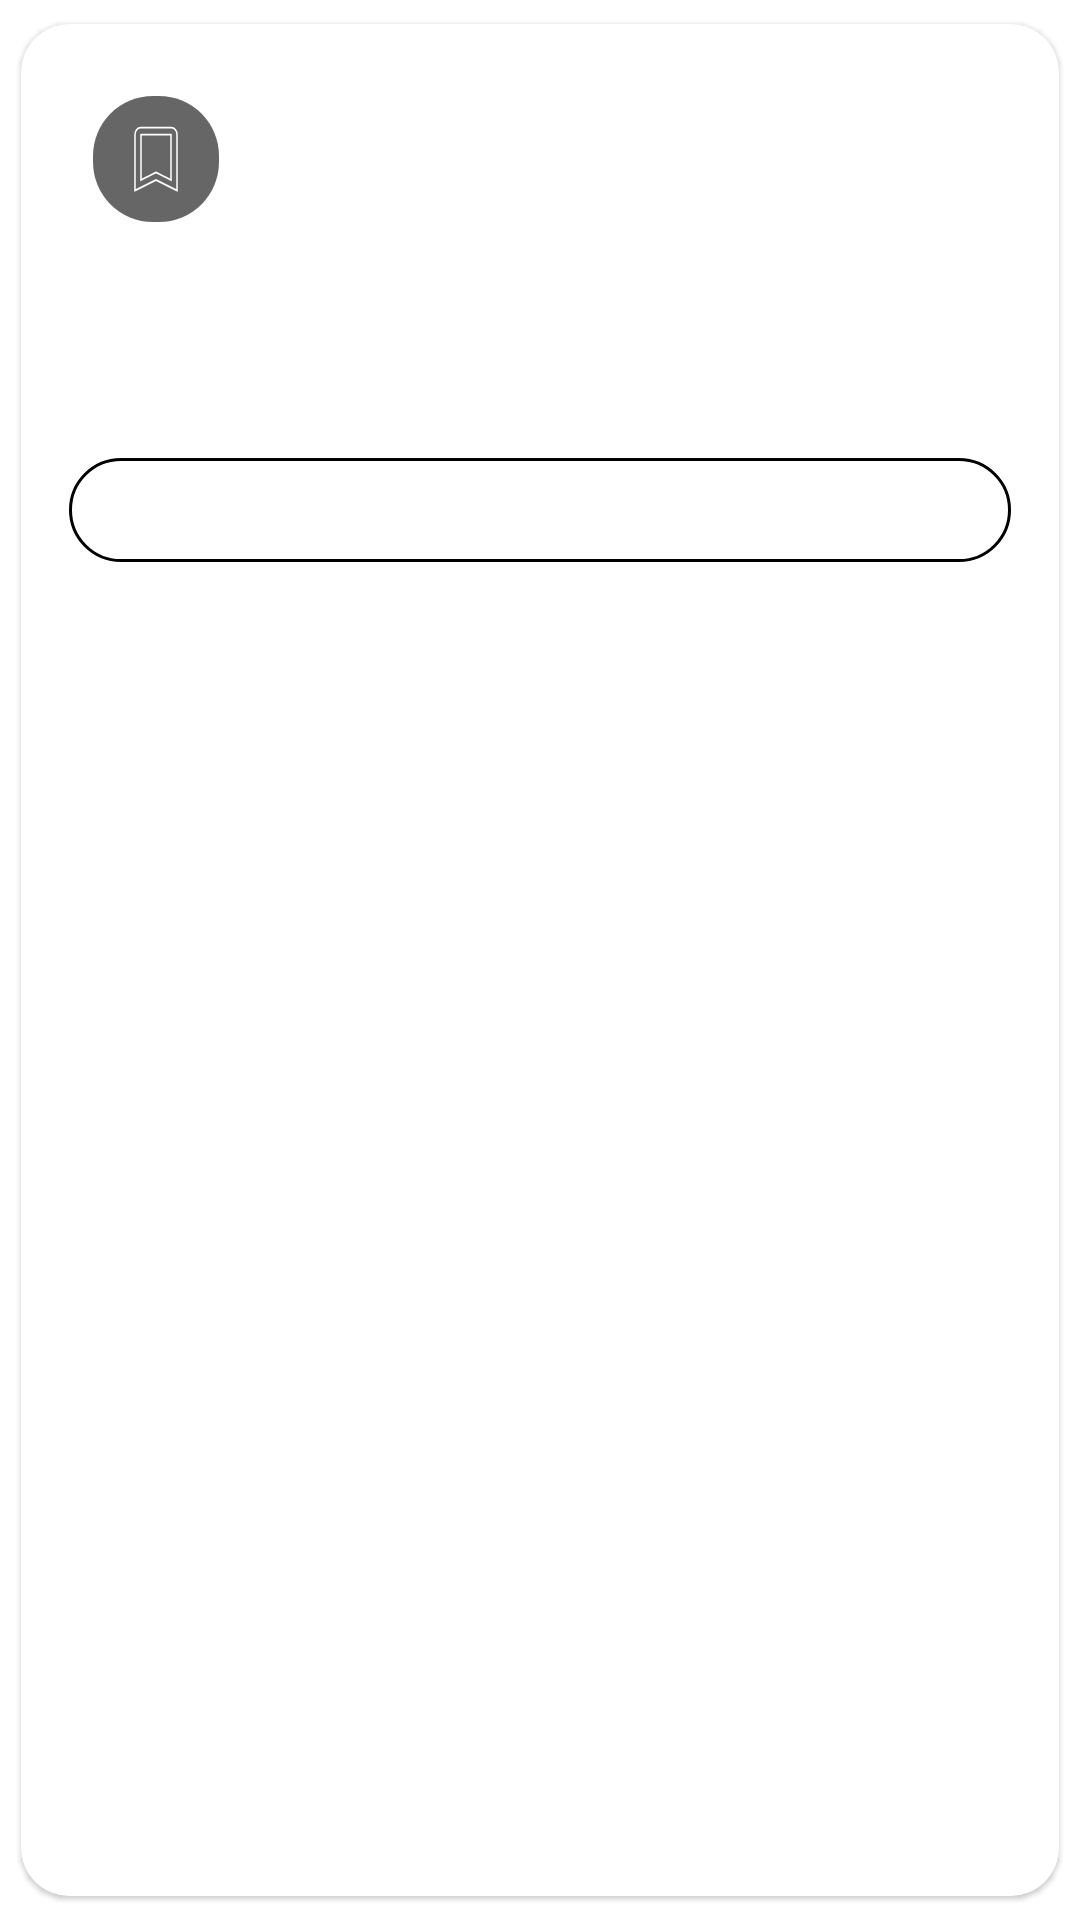

Where icons sit on this 1080×1920 app screen, as {"x1": x1, "y1": y1, "x2": x2, "y2": y2}:
bookmark border: {"x1": 93, "y1": 96, "x2": 219, "y2": 222}
